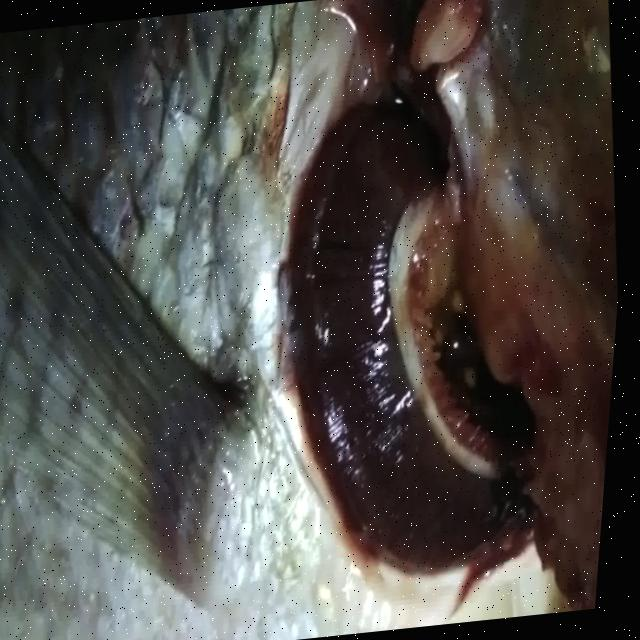Non-Fresh: (207, 42, 605, 598)
